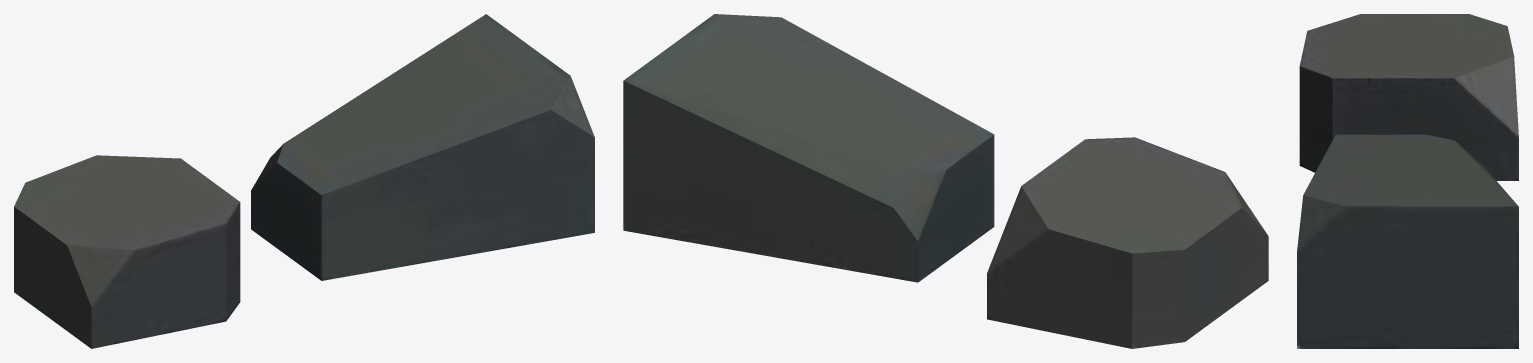
Rendered from OBJ_SmallRock_04.obj.
The picture shows the model from 3 angles, left to right: view 1: azimuth 30°, elevation 25°; view 2: azimuth 150°, elevation 25°; view 3: azimuth 270°, elevation 25°; orthographic projection. The views are drawn at different scales.
Parts seen in each view (by area): view 1: OBJ_SmallRock_04; view 2: OBJ_SmallRock_04; view 3: OBJ_SmallRock_04.
Part boxes in pixels (box(x1,y1,x2,y2)): OBJ_SmallRock_04: box(14, 14, 594, 348); OBJ_SmallRock_04: box(623, 14, 1268, 348); OBJ_SmallRock_04: box(1297, 14, 1518, 348).
Size of the model in its own units: 0.7085 by 0.1899 by 0.2686.
1 material, 1 textured.
